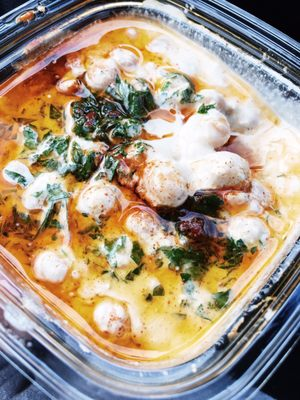curry: (158, 246, 205, 281)
